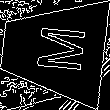M_W: (23, 24, 83, 76)
